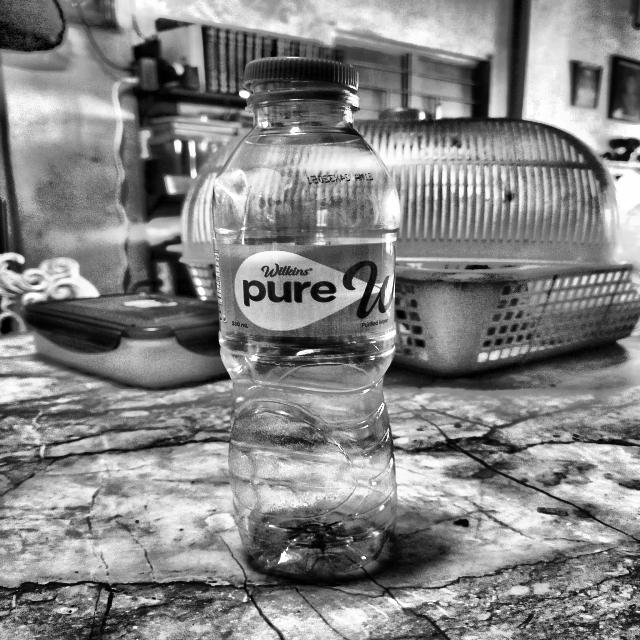Plastic-Bottle: (206, 52, 402, 586)
